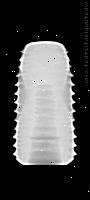Cowellmedi: (13, 41, 76, 165)
